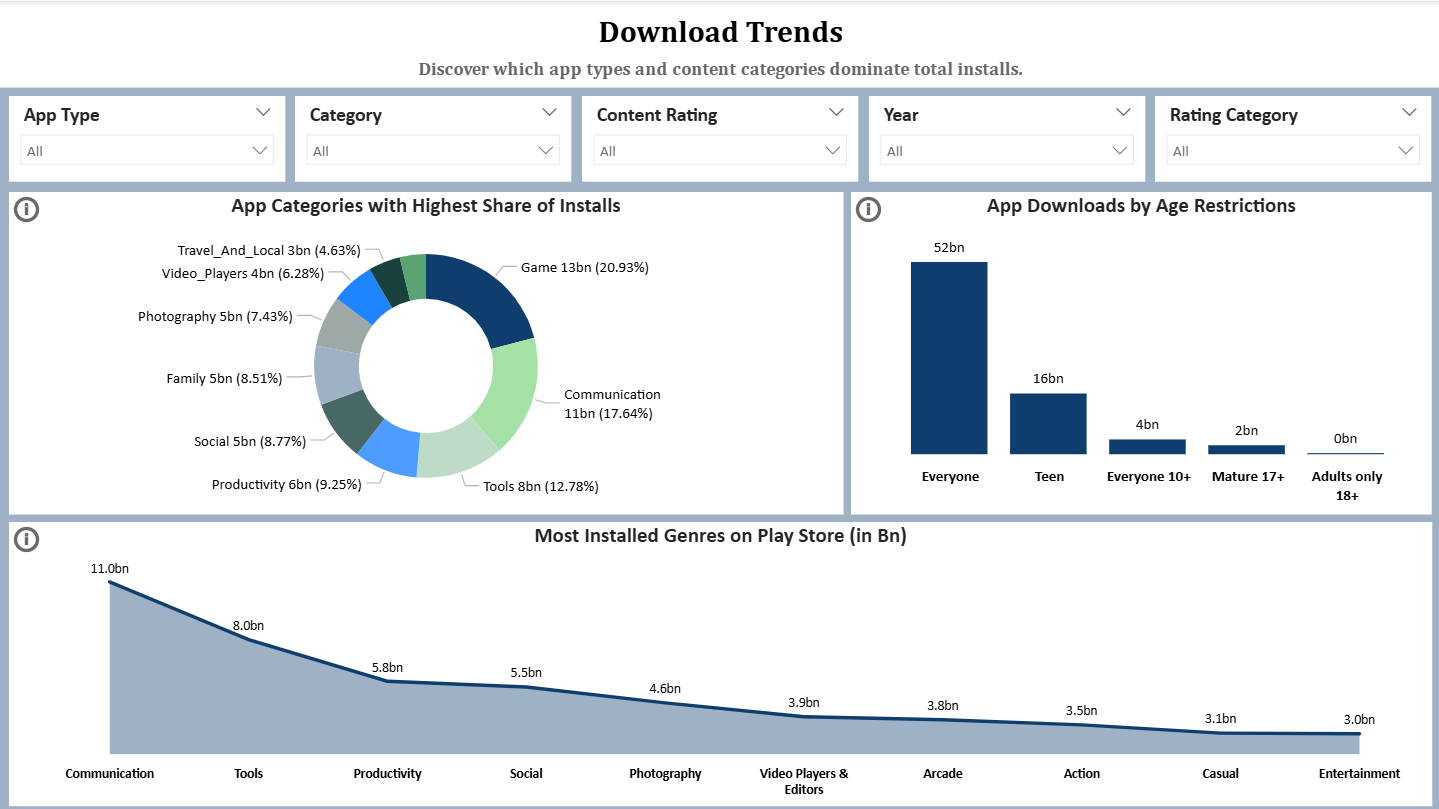

What the dashboard file says about the page in this screenshot:
{"tool":"powerbi","page":{"name":"Download Patterns","canvas":[1280,720],"ordinal":1},"visuals":[{"type":"donutChart","title":"App Categories with Highest Share of Installs","fields":{"Category":["googleplaystore_cleaned.Category"],"Y":["Sum(googleplaystore_cleaned.Installs)"]},"box":[8.9,169.4,739.5,285.5],"z":0},{"type":"areaChart","title":"Most Installed Genres on Play Store (in Bn)","fields":{"Y":["Sum(googleplaystore_cleaned.Installs)"],"Category":["googleplaystore_cleaned.Genres"]},"box":[8.9,462,1261.8,251.8],"z":1000},{"type":"columnChart","title":"App Downloads by Age Restrictions","fields":{"Category":["googleplaystore_cleaned.Content_Rating"],"Y":["Sum(googleplaystore_cleaned.Installs)"]},"box":[755.5,169.4,515.2,285.5],"z":2000},{"type":"shape","title":"App Availability Overview","box":[0,0,1280,50.6],"z":3000},{"type":"shape","box":[0,50.6,1280,26.3],"z":4000},{"type":"slicer","fields":{"Values":["googleplaystore_cleaned.Type"]},"box":[8.8,84.6,245.1,75.9],"z":5000},{"type":"slicer","fields":{"Values":["googleplaystore_cleaned.Category"]},"box":[262.9,84.6,245.1,75.9],"z":6000},{"type":"slicer","fields":{"Values":["googleplaystore_cleaned.Content_Rating"]},"box":[517,84.6,245.1,75.9],"z":7000},{"type":"slicer","fields":{"Values":["googleplaystore_cleaned.Last_Updated.Variation.Date Hierarchy.Year"]},"box":[771.1,84.6,245.1,75.9],"z":8000},{"type":"slicer","fields":{"Values":["googleplaystore_cleaned.Rating Category"]},"box":[1025.2,84.6,245.1,75.9],"z":9000},{"type":"actionButton","box":[8.9,169.4,32.8,31],"z":13000},{"type":"actionButton","box":[755.5,169.4,31,31],"z":14000},{"type":"actionButton","box":[8.9,462,32.8,31],"z":15000}]}

Visuals, with their boxes in screenshot pixels (x1, y1, x2, y2), scaled from the page's 1280x720 canvas onto the 1439x809 screenshot:
"App Categories with Highest Share of Installs" donutChart: [10, 190, 841, 511]
"Most Installed Genres on Play Store (in Bn)" areaChart: [10, 519, 1429, 802]
"App Downloads by Age Restrictions" columnChart: [849, 190, 1429, 511]
"App Availability Overview" shape: [0, 0, 1438, 57]
shape: [0, 57, 1438, 86]
slicer - googleplaystore_cleaned.Type: [10, 95, 285, 180]
slicer - googleplaystore_cleaned.Category: [296, 95, 571, 180]
slicer - googleplaystore_cleaned.Content_Rating: [581, 95, 857, 180]
slicer - googleplaystore_cleaned.Last_Updated.Variation.Date Hierarchy.Year: [867, 95, 1142, 180]
slicer - googleplaystore_cleaned.Rating Category: [1153, 95, 1428, 180]
actionButton: [10, 190, 47, 225]
actionButton: [849, 190, 884, 225]
actionButton: [10, 519, 47, 554]
